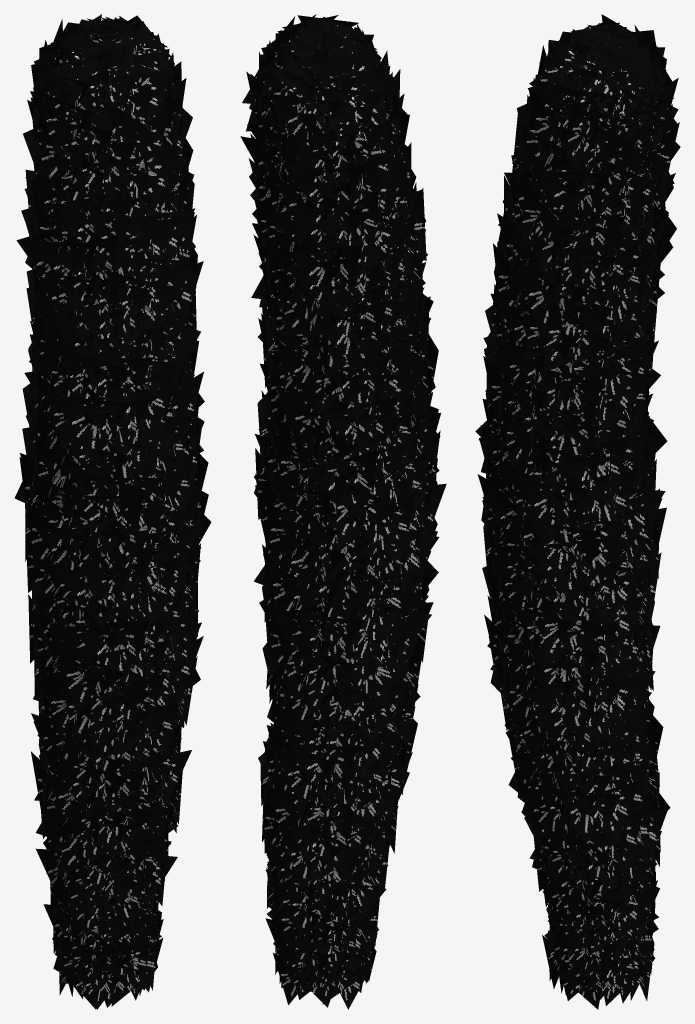
The model's file is p_saguaro_b.glb.
3 renders of one model, left to right at view 1: azimuth 30°, elevation 25°; view 2: azimuth 150°, elevation 25°; view 3: azimuth 270°, elevation 25°, orthographic.
Parts seen in each view (by area): view 1: Carnegiea_gigantea_HD; view 2: Carnegiea_gigantea_HD; view 3: Carnegiea_gigantea_HD.
Part boxes in pixels (x1,y1,x2,y2): Carnegiea_gigantea_HD: (14,14,211,1009); Carnegiea_gigantea_HD: (240,14,446,1009); Carnegiea_gigantea_HD: (475,14,680,1009).
Bounding box in the file's own units: 0.1541 × 0.8589 × 0.1651.
Materials: 2 (2 with a texture image).
